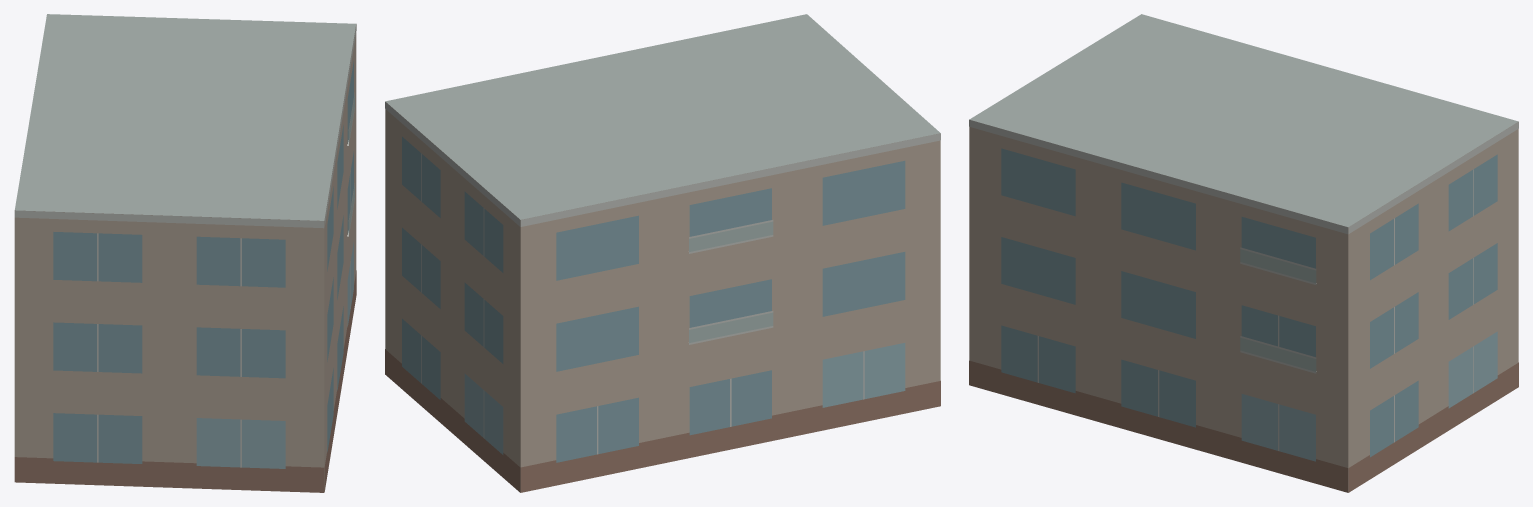
The model's file is survey-upis-32703963.glb.
The picture shows the model from 3 angles, left to right: view 1: azimuth 30°, elevation 25°; view 2: azimuth 150°, elevation 25°; view 3: azimuth 270°, elevation 25°; orthographic projection. The views are drawn at different scales.
Visible parts, largest first — view 1: survey-upis-32703963.tmp; view 2: survey-upis-32703963.tmp; view 3: survey-upis-32703963.tmp.
Boxes of the visible parts, x1,y1,x2,y2 form: survey-upis-32703963.tmp: (14,14,356,492); survey-upis-32703963.tmp: (385,14,940,492); survey-upis-32703963.tmp: (969,14,1518,492).
Size of the model in its own units: 15.77 by 9.15 by 17.17.
